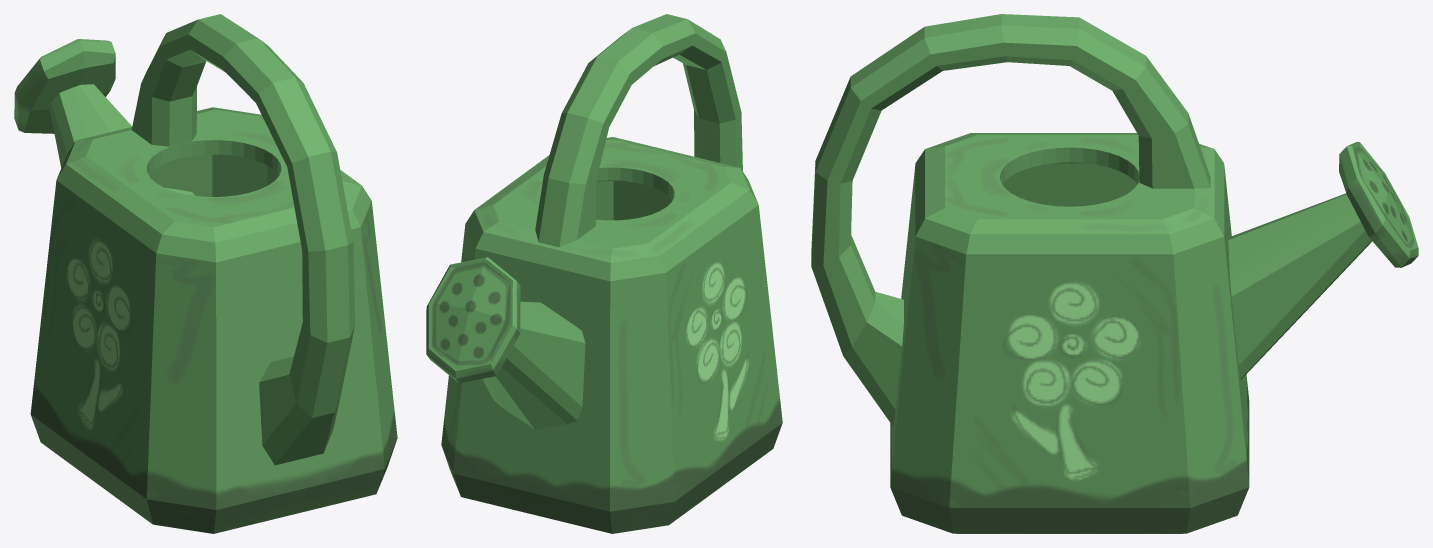
The model's file is watercan.fbx.
3 renders of one model, left to right at view 1: azimuth 30°, elevation 25°; view 2: azimuth 150°, elevation 25°; view 3: azimuth 270°, elevation 25°, orthographic. The views are drawn at different scales.
Visible parts, largest first — view 1: Cube, Cube.003, Cube.002, Cube.001; view 2: Cube, Cube.003, Cube.002, Cube.001; view 3: Cube, Cube.003, Cube.001, Cube.002.
Boxes of the visible parts, box(x1,y1,x2,y2) form: Cube: box(30, 107, 397, 533); Cube.003: box(131, 14, 355, 465); Cube.002: box(14, 39, 115, 133); Cube.001: box(49, 84, 195, 195); Cube: box(441, 137, 782, 533); Cube.003: box(535, 14, 742, 247); Cube.002: box(426, 257, 520, 383); Cube.001: box(482, 301, 585, 429); Cube: box(890, 133, 1249, 533); Cube.003: box(811, 14, 1210, 426); Cube.001: box(1228, 193, 1372, 379); Cube.002: box(1339, 142, 1418, 267).
Size of the model in its own units: 25.37 by 43.5 by 51.29.
